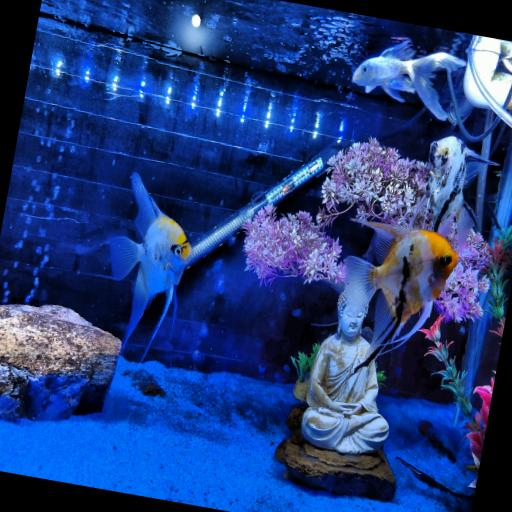Fish: (344, 220, 457, 362), (110, 173, 191, 361), (417, 136, 497, 250), (353, 40, 466, 120)
